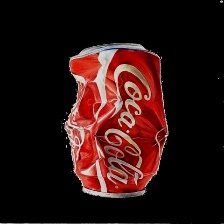can: (61, 33, 173, 199)
